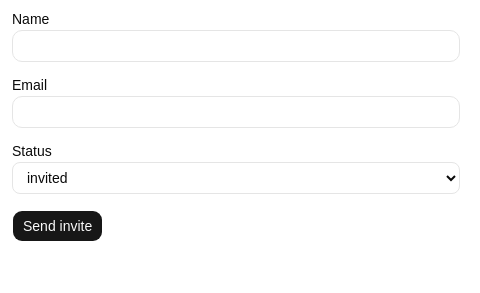
InviteUserForm › submits a valid invite through MSW and shows the confirmation
Type "Nia Adeyemi" into the field labelled "Name" at (236, 46), box [12,30,460,62]
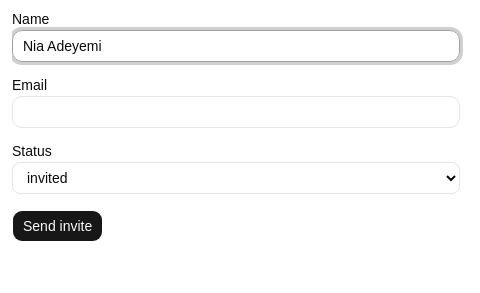
Type "nia.adeyemi@example.com" into the field labelled "Email" at (236, 112), box [12,96,460,128]
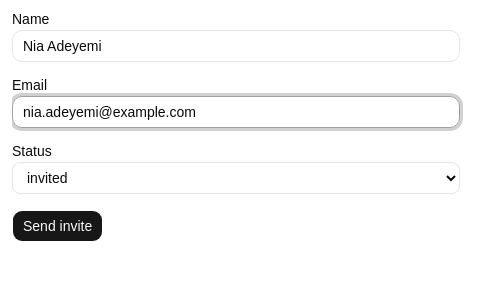
Select "invited" in the dropdown labelled "Status" at (236, 178), box [12,162,460,194]
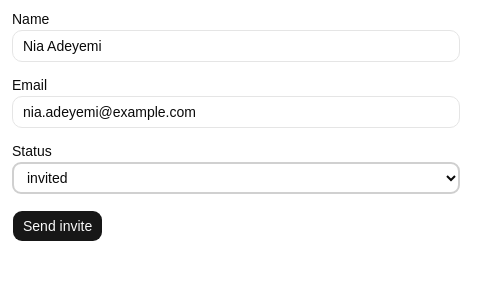
Click the button "Send invite" at (58, 226), box [12,210,103,242]
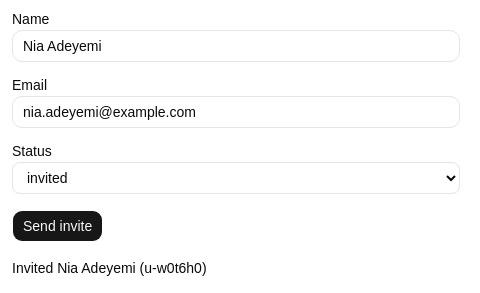
Check: the message shows "Invited Nia Adeyemi", box [12,260,207,276]
